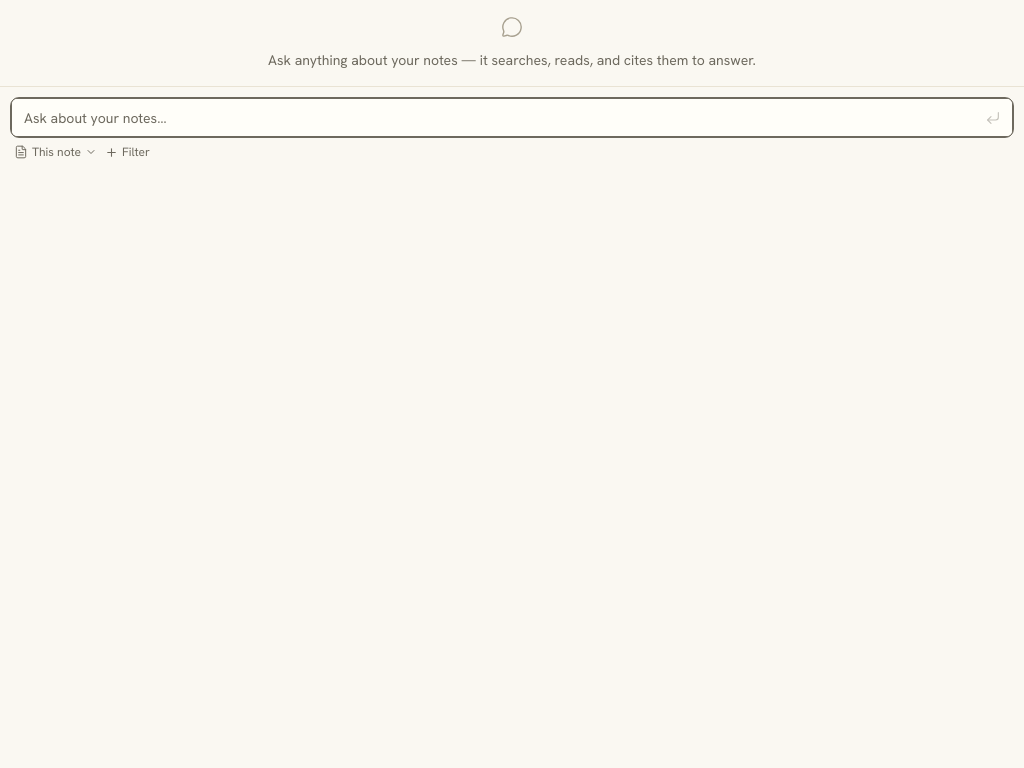
Test case: ChatPanel conversation pins (#115) › drops the Client field under note breadth but keeps the speaker one
Expected: the text box with placeholder "Ask about your notes…" is shown, [11,98,1013,137]
Click the button with test id "chat-pin-picker".
click(128, 152)  # box [105,144,150,160]
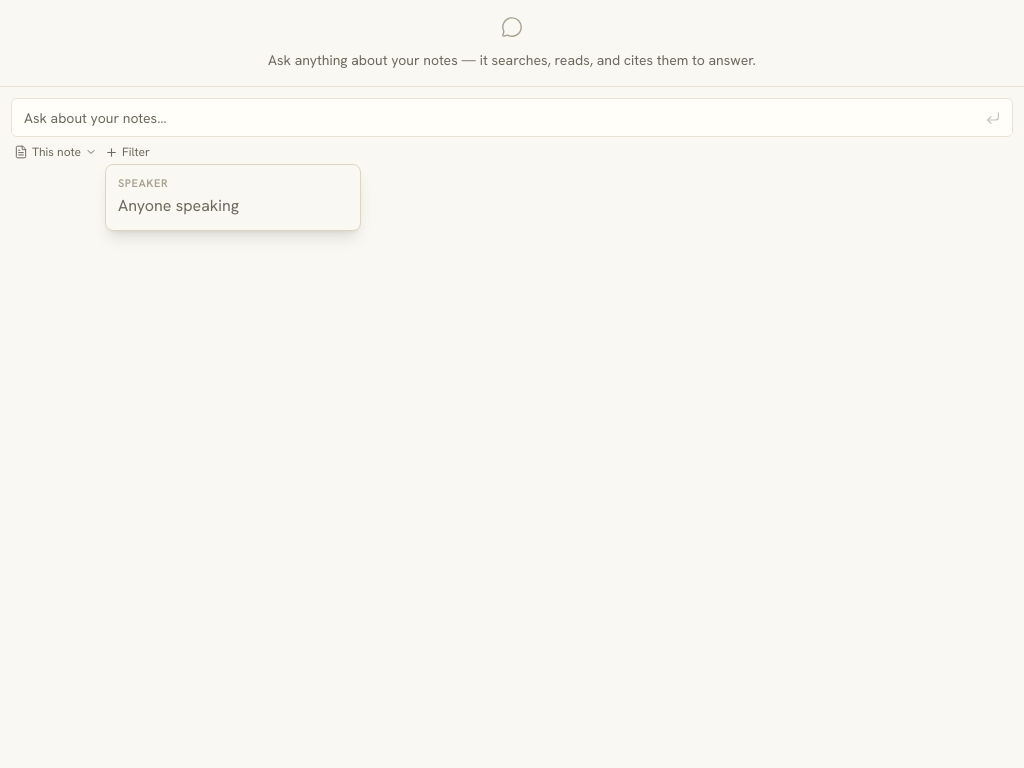
Expected: the dropdown with placeholder "Anyone speaking" is shown, [118,194,348,218]
